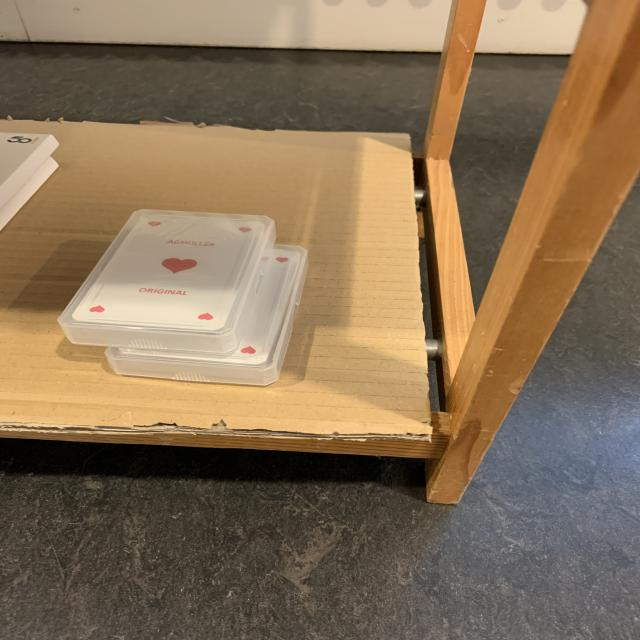Jasskarte: (59, 209, 275, 354), (105, 245, 307, 386)
